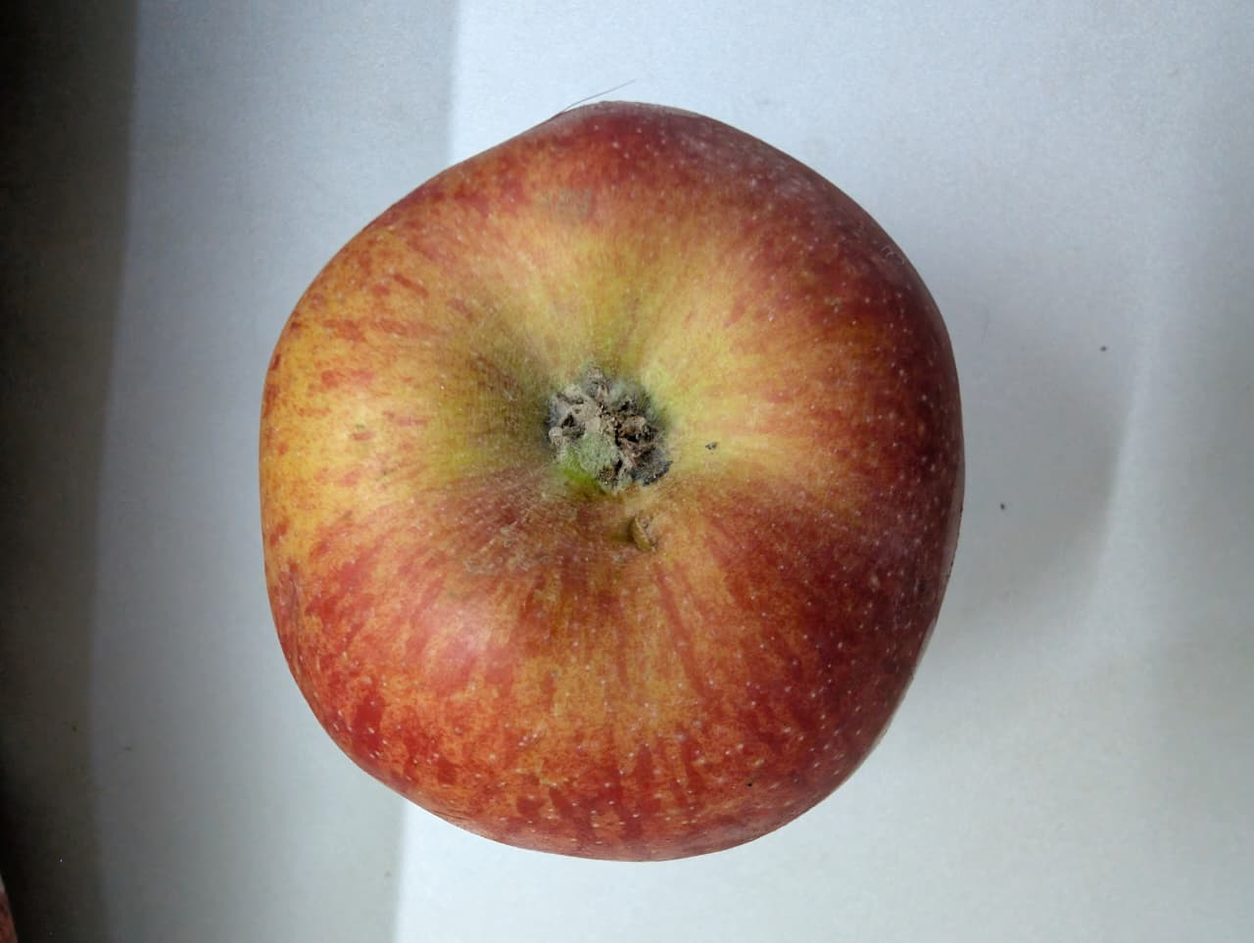apple: (85, 215, 1189, 911)
